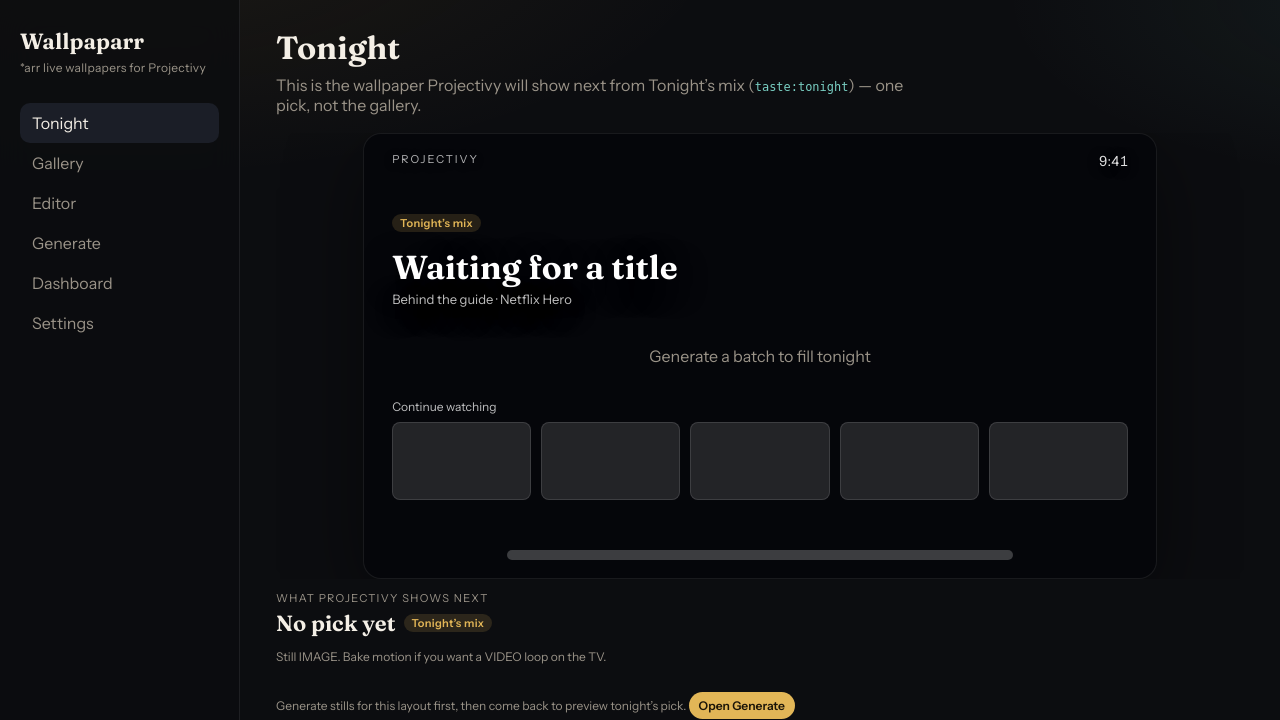
Test: gallery delete UX › shows an empty gallery and keeps delete all disabled
Step 1. Click the button "Gallery" → x=120, y=163, box left=20, top=143, right=219, bottom=183
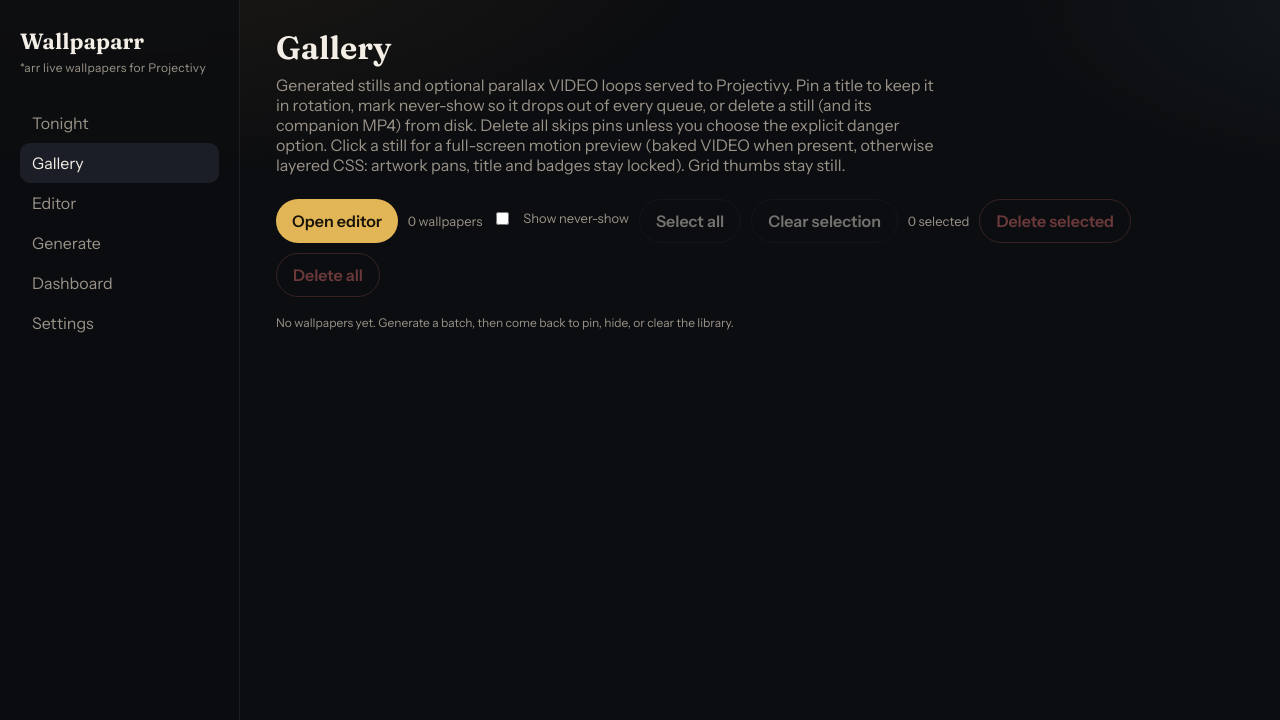
Check: the heading "Gallery" is shown, box left=276, top=28, right=392, bottom=67
Check: the text "No wallpapers yet" is shown, box left=276, top=315, right=734, bottom=330
Check: the button "Delete all" is disabled, box left=276, top=253, right=380, bottom=297
